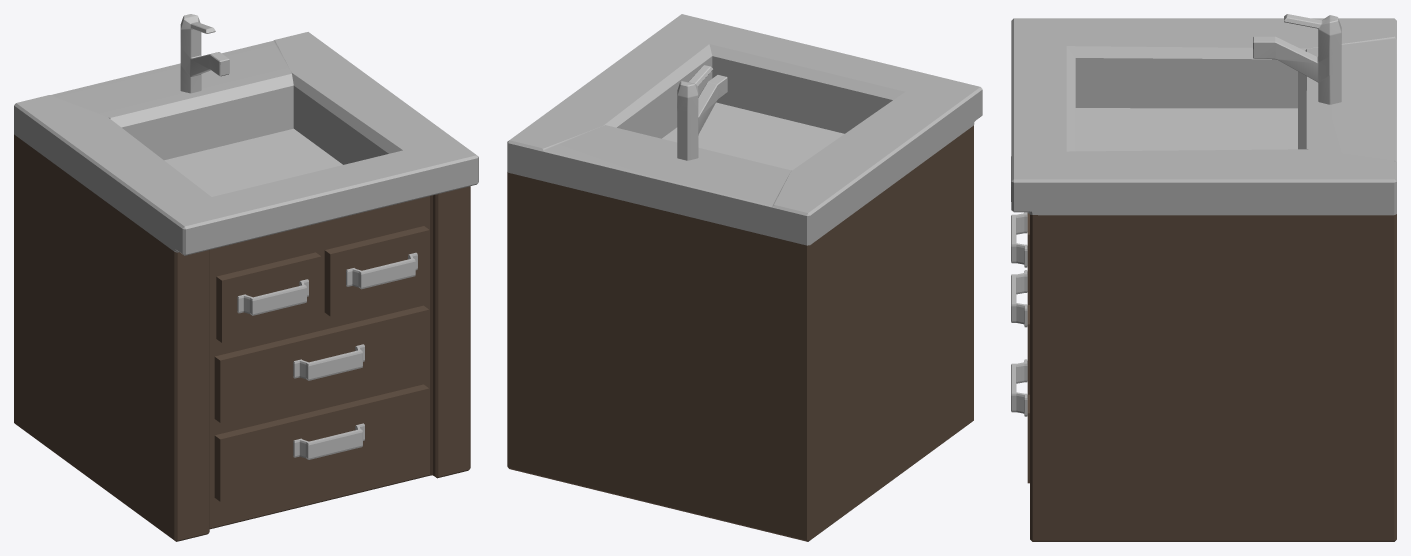
Rendered from sink.fbx.
The picture shows the model from 3 angles, left to right: view 1: azimuth 30°, elevation 25°; view 2: azimuth 150°, elevation 25°; view 3: azimuth 270°, elevation 25°; orthographic projection. The views are drawn at different scales.
Parts seen in each view (by area): view 1: sink; view 2: sink; view 3: sink.
Boxes of the visible parts, x1,y1,x2,y2 form: sink: (14,14,478,541); sink: (507,14,982,541); sink: (1011,14,1396,541).
Size of the model in its own units: 1.17 by 1.49 by 1.17.
